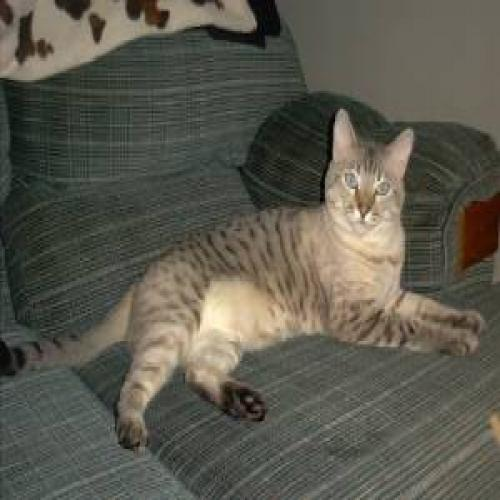cat-face: (316, 114, 416, 240)
